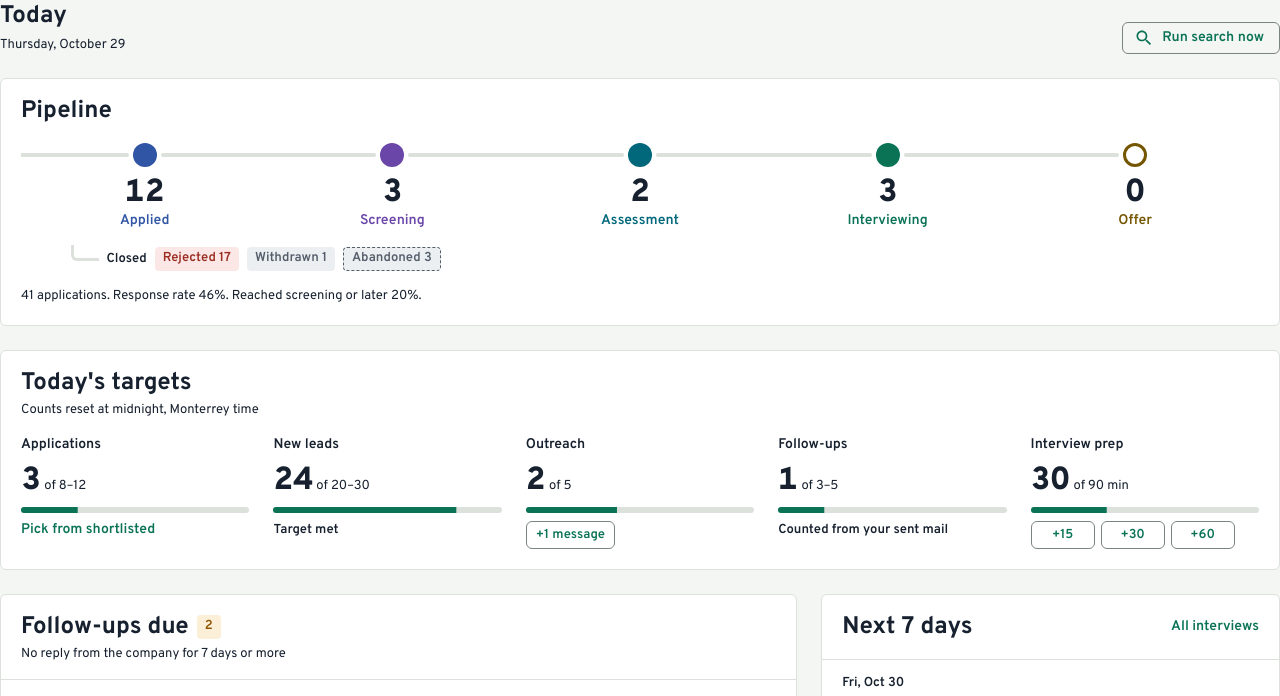
it: TodayPage › Run search now › shows 'A search is already running' on 409 already_running
Click the button "Run search now".
click(1201, 38)  # box [1122,22,1279,54]
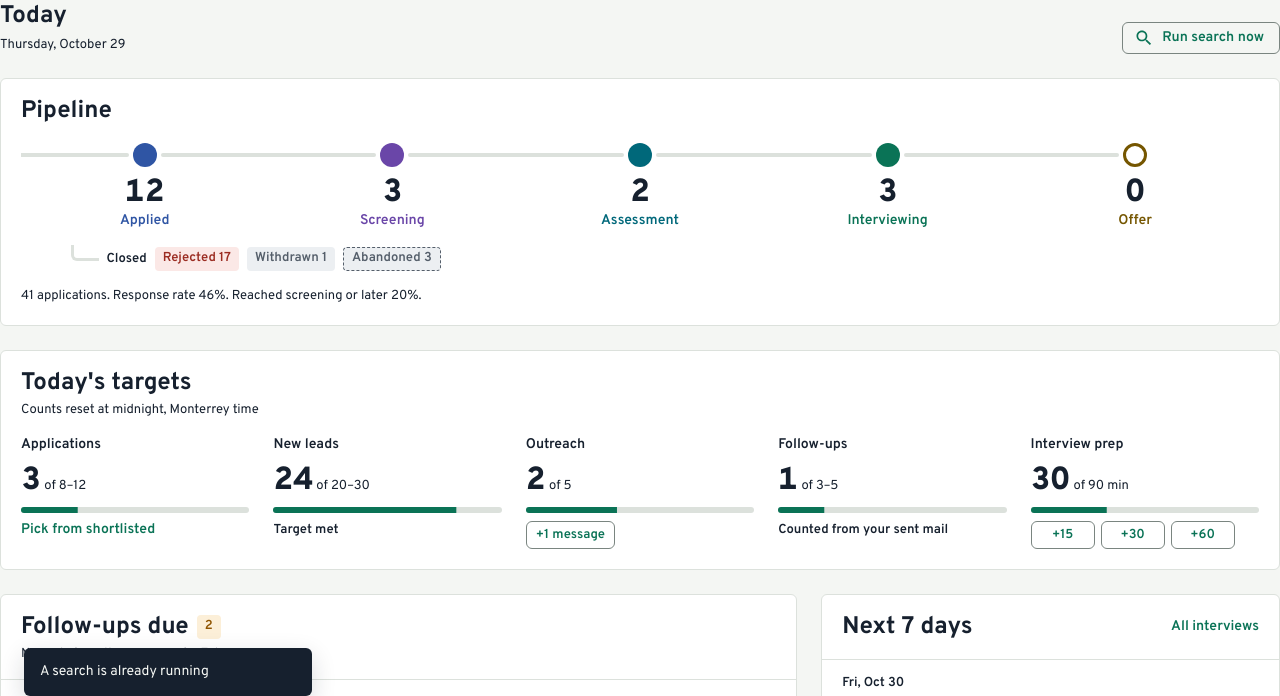
expect the text "A search is already running" is shown: met, box [40,663,209,680]
